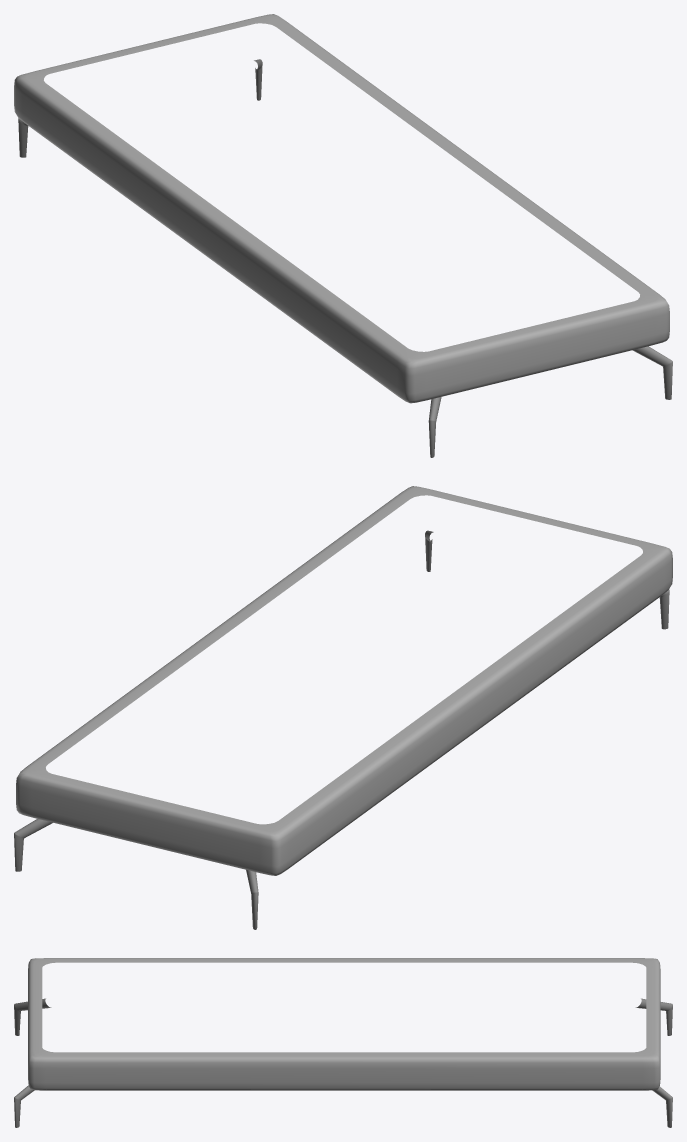
The model's file is Modern_Sofa.gltf.
3 views of the same model, one above another, from view 1: azimuth 30°, elevation 25°; view 2: azimuth 150°, elevation 25°; view 3: azimuth 270°, elevation 25° (orthographic). The views are drawn at different scales.
Parts seen in each view (by area): view 1: Sofa_Base, Sofa_Foots; view 2: Sofa_Base, Sofa_Foots; view 3: Sofa_Base, Sofa_Foots.
Part boxes in pixels (x1=…): Sofa_Base: x1=14, y1=14, x2=669, y2=403; Sofa_Foots: x1=18, y1=59, x2=672, y2=457; Sofa_Base: x1=16, y1=486, x2=672, y2=875; Sofa_Foots: x1=14, y1=530, x2=669, y2=929; Sofa_Base: x1=28, y1=958, x2=660, y2=1090; Sofa_Foots: x1=14, y1=998, x2=672, y2=1127.
Size of what is drawn, in the model's own units: 0.8332 by 0.2736 by 2.26.
2 materials, 2 textured.
